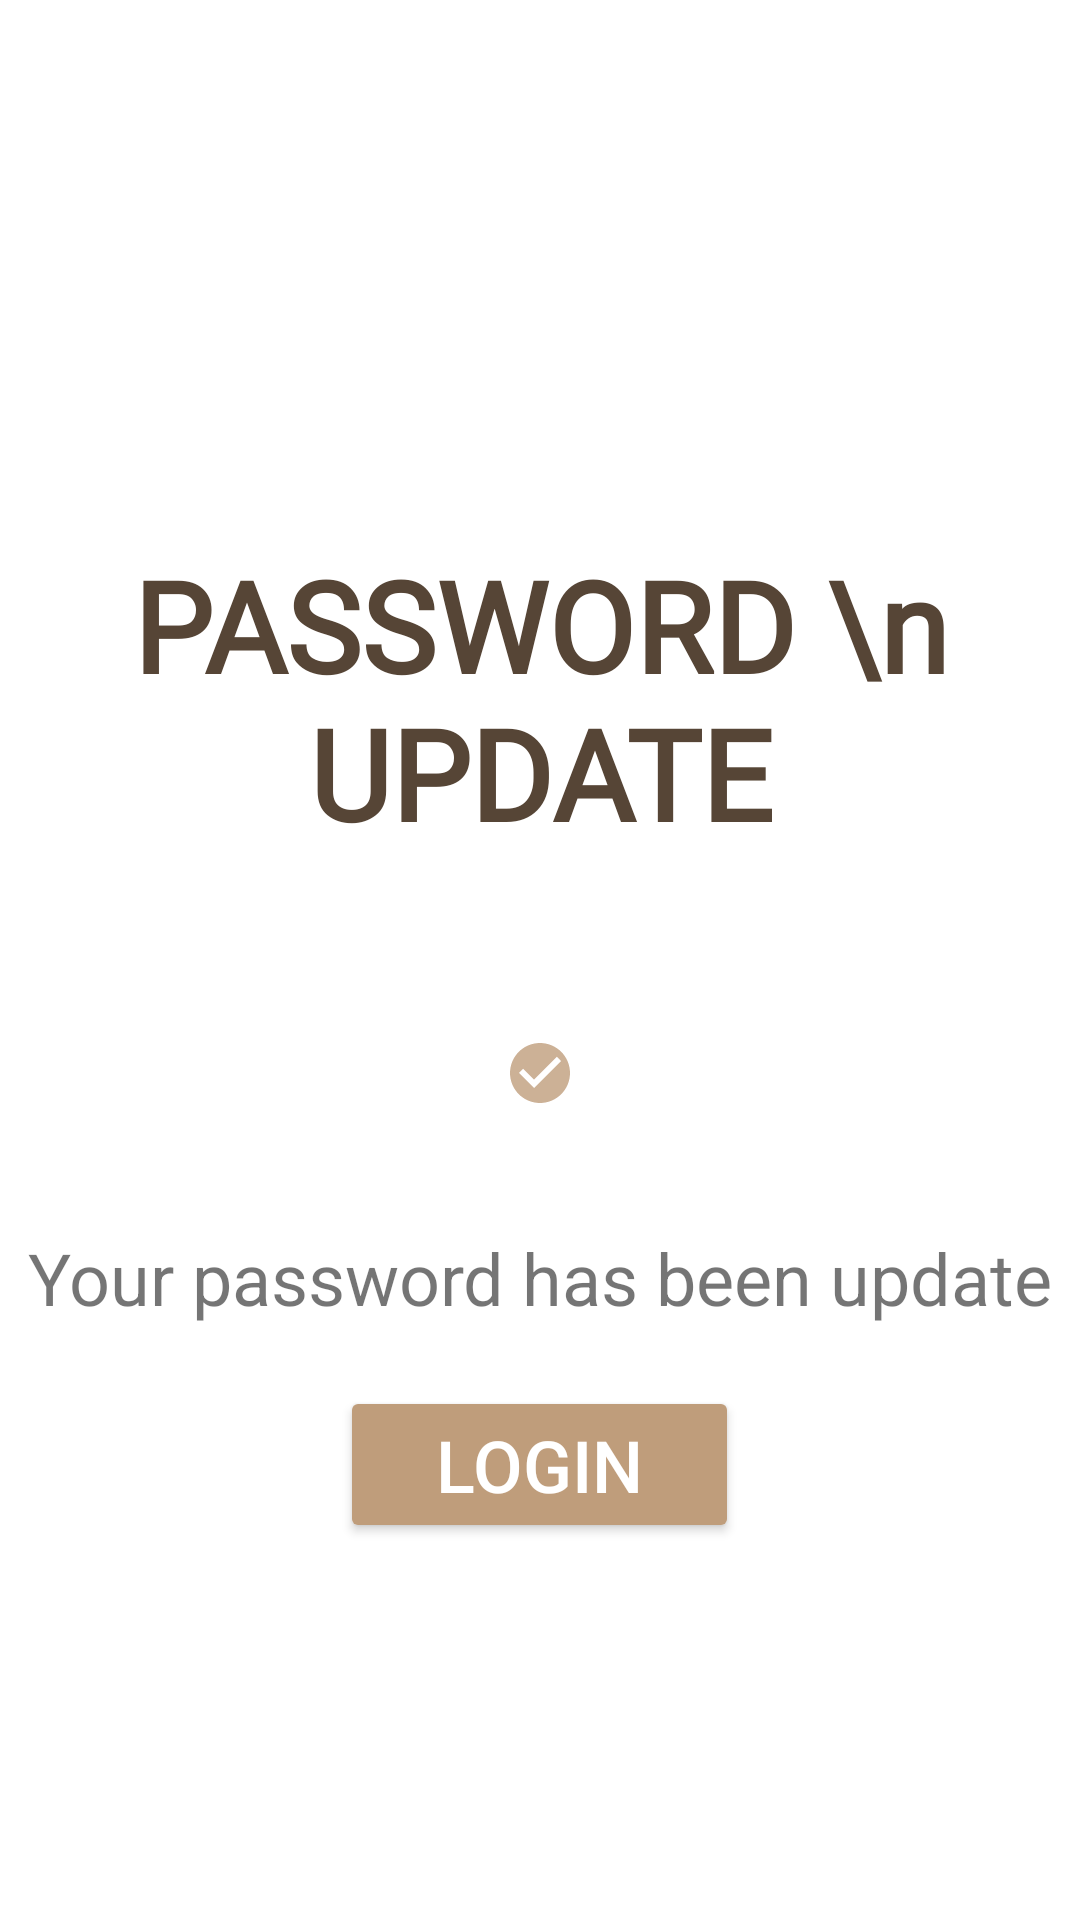

Point at icon controls on the screen. Image size 1080x1920, points as [x,y].
successfull: [540,1073]
